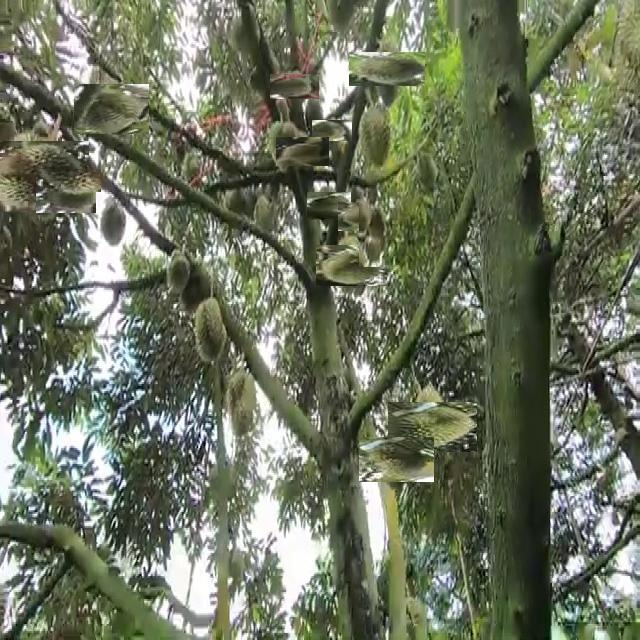durian: (0, 132, 81, 220), (397, 392, 467, 462), (80, 77, 142, 141), (367, 429, 427, 490), (324, 237, 380, 294), (360, 41, 415, 97), (41, 163, 95, 219), (224, 360, 260, 441), (357, 98, 394, 173), (192, 294, 226, 365), (264, 112, 298, 175), (96, 192, 130, 252), (359, 202, 389, 267), (282, 131, 323, 172), (276, 68, 313, 106), (342, 198, 380, 235), (165, 245, 192, 297), (310, 188, 347, 225), (316, 115, 347, 146)
